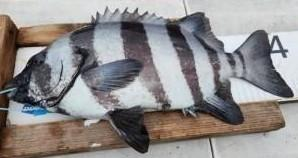fish: (0, 6, 295, 154)
